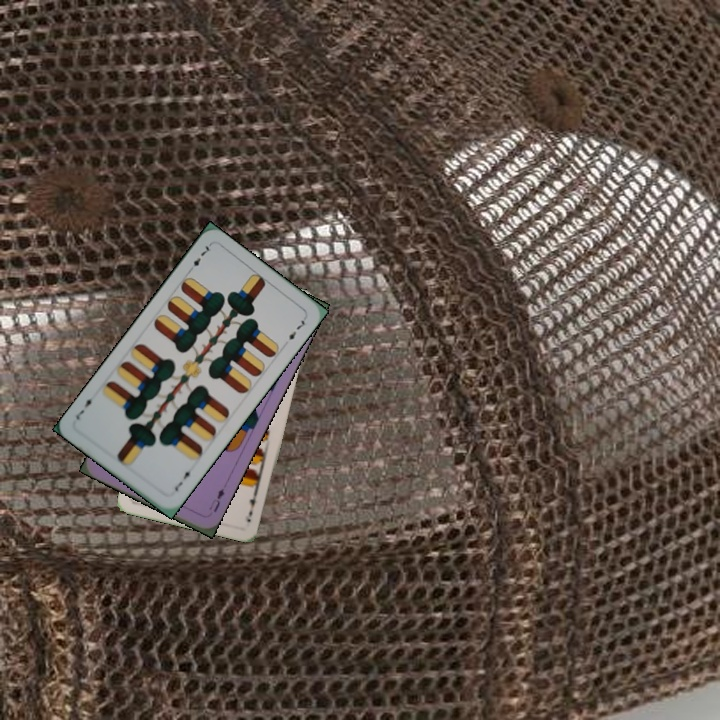E7: (184, 240, 213, 276), (170, 465, 196, 494), (244, 486, 260, 519)
EU: (205, 484, 227, 515)
